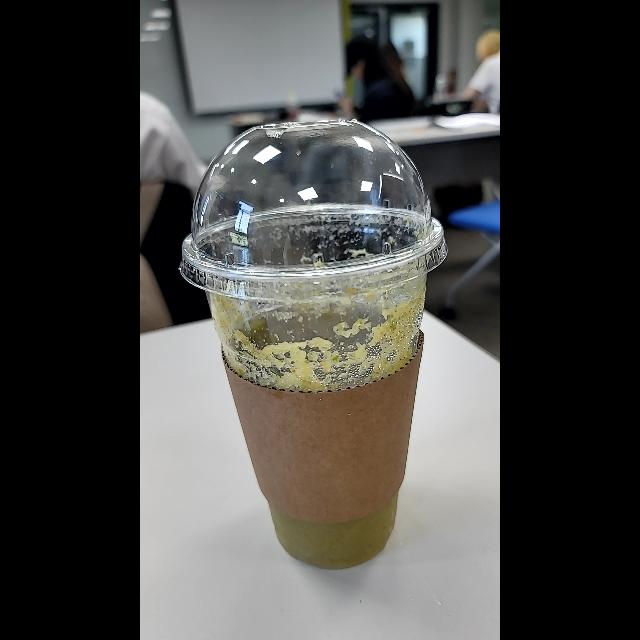plastic_cup: (175, 112, 448, 572)
plastic_cup_lid: (175, 112, 451, 302)
